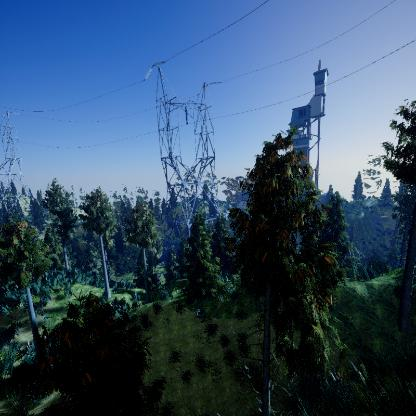tower: (143, 62, 224, 238)
